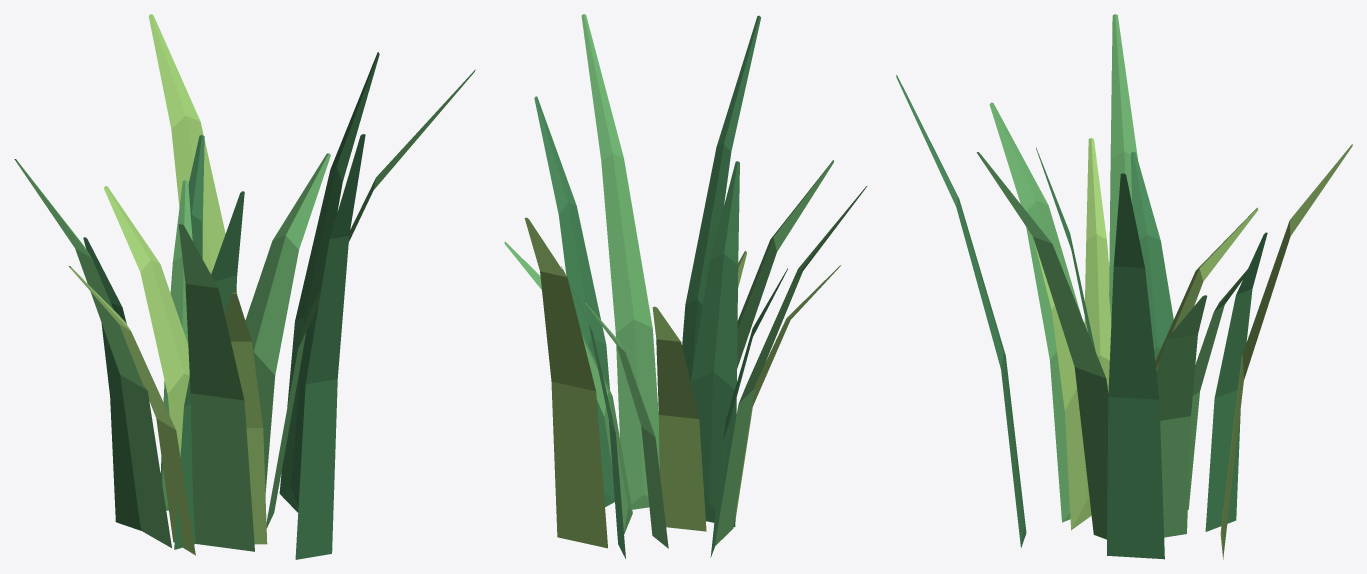
File: grass_tussock_d.glb
3 renders of one model, left to right at view 1: azimuth 30°, elevation 25°; view 2: azimuth 150°, elevation 25°; view 3: azimuth 270°, elevation 25°, orthographic. The views are drawn at different scales.
Visible parts, largest first — view 1: GrassTussockD; view 2: GrassTussockD; view 3: GrassTussockD.
Boxes of the visible parts, left/top/right/bottom form: GrassTussockD: left=14, top=14, right=475, bottom=559; GrassTussockD: left=504, top=14, right=867, bottom=558; GrassTussockD: left=896, top=14, right=1352, bottom=559.
Size of the model in its own units: 0.632 by 0.736 by 0.6645.
